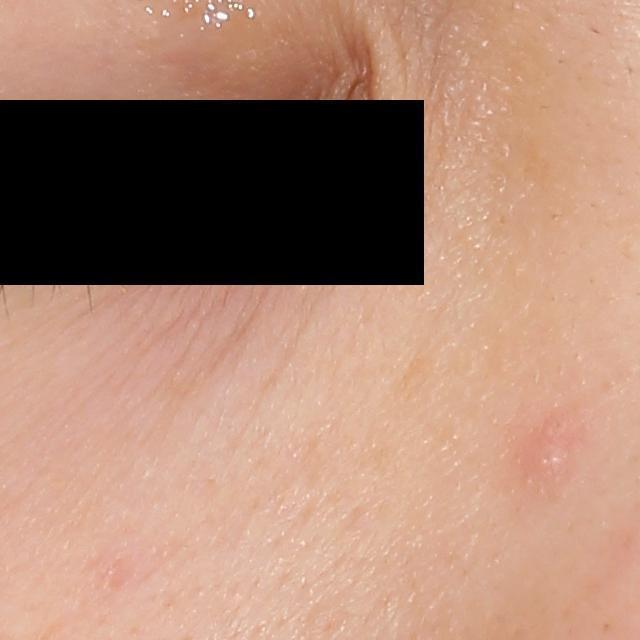papule: (526, 433, 571, 487)
